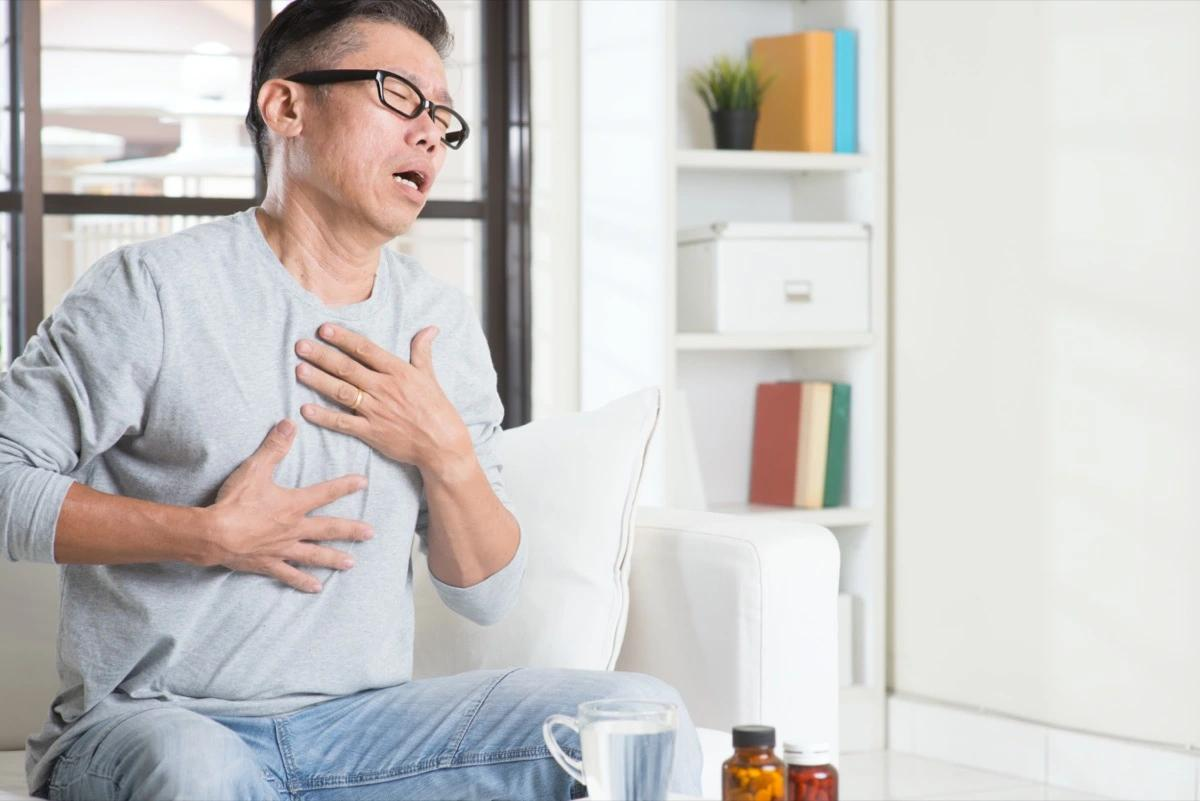pain: (357, 56, 475, 149)
